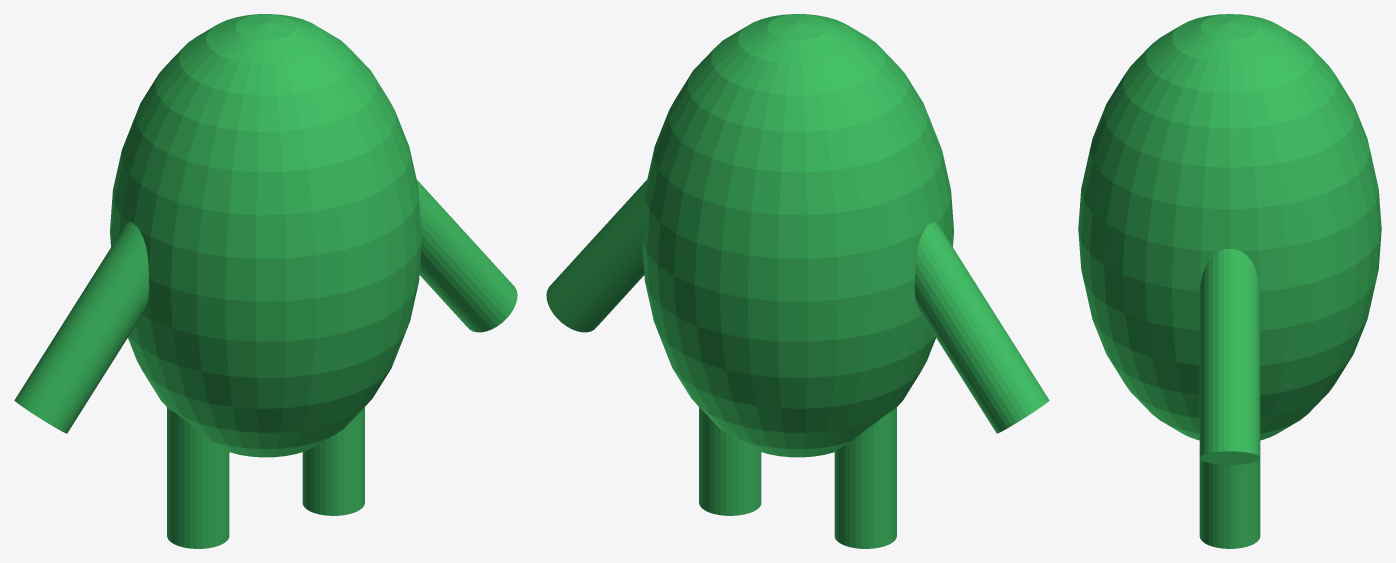
Rendered from sci-fi_4.glb.
The picture shows the model from 3 angles, left to right: view 1: azimuth 30°, elevation 25°; view 2: azimuth 150°, elevation 25°; view 3: azimuth 270°, elevation 25°; orthographic projection. The views are drawn at different scales.
Visible parts, largest first — view 1: Sphere, Cylinder.003, Cylinder.002, Cylinder.001, Cylinder; view 2: Sphere, Cylinder.003, Cylinder.002, Cylinder.001, Cylinder; view 3: Sphere, Cylinder.002, Cylinder.
Part boxes in pixels (bbox=[...]): Sphere: bbox=[110, 14, 421, 457]; Cylinder.003: bbox=[14, 222, 149, 433]; Cylinder.002: bbox=[416, 179, 517, 332]; Cylinder.001: bbox=[167, 407, 229, 548]; Cylinder: bbox=[302, 407, 364, 515]; Sphere: bbox=[642, 14, 953, 457]; Cylinder.003: bbox=[914, 222, 1049, 433]; Cylinder.002: bbox=[546, 179, 647, 332]; Cylinder.001: bbox=[834, 407, 896, 548]; Cylinder: bbox=[699, 407, 761, 515]; Sphere: bbox=[1078, 14, 1381, 440]; Cylinder.002: bbox=[1199, 249, 1260, 464]; Cylinder: bbox=[1199, 459, 1260, 548].
Bounding box in the file's own units: 1.82 × 1.75 × 1.
